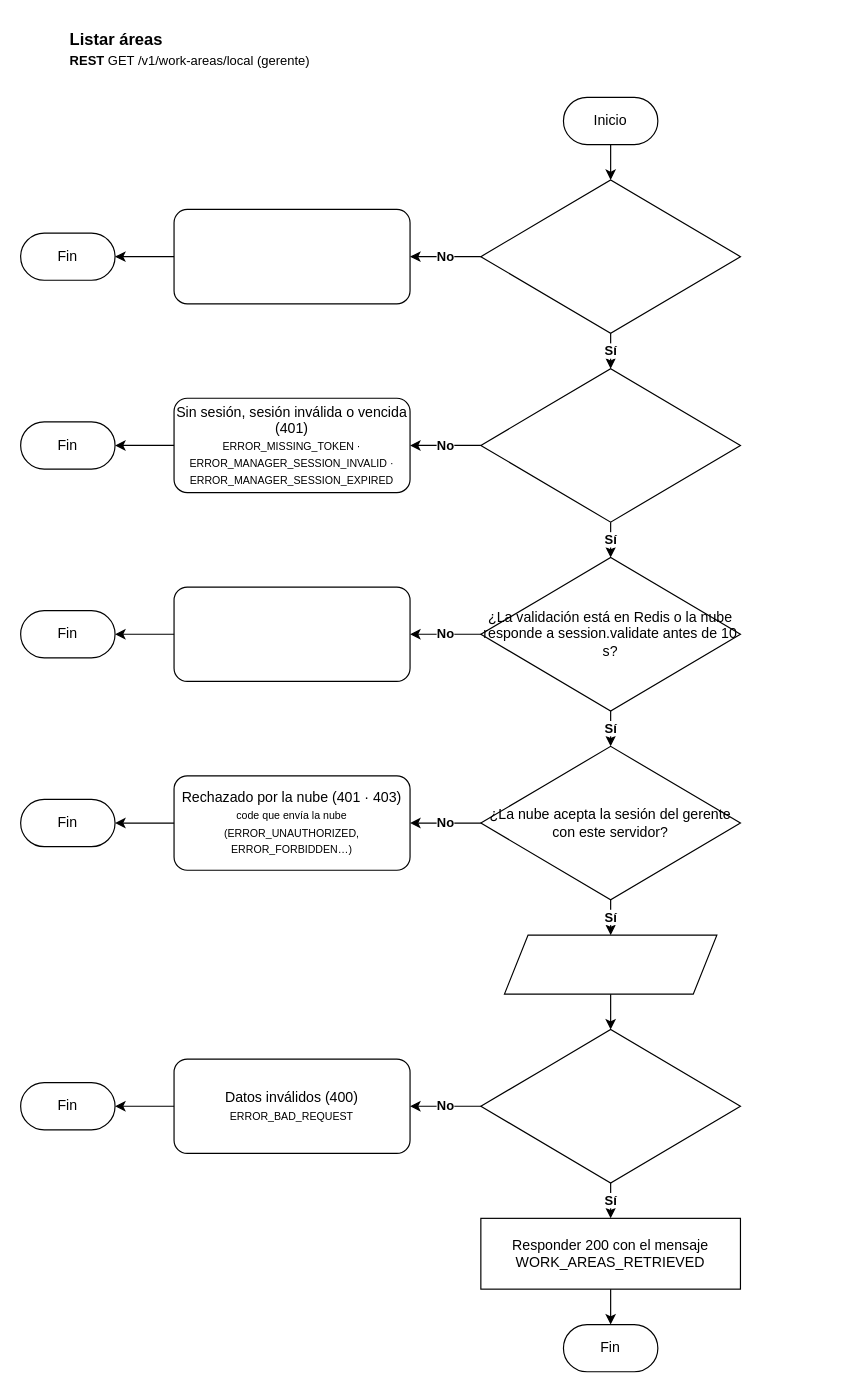
Image size: 844x1392. Some labels were removed from this diagram. The box of each missing label's shape, as (x1, y1, x2, y2) in pixels:
La nube no responde (503) ERROR_CLOUD_UNAVAILABLE · ERROR_SERVER_UNLINKED: (173, 586, 410, 681)
Recibir datos: (503, 934, 717, 994)
Servidor sin emparejar (409) ERROR_SERVER_NOT_PAIRED: (173, 208, 410, 304)
¿El servidor ya se emparejó alguna vez (pairing_status distinto de unpaired)?: (480, 179, 740, 333)
¿Los datos son válidos?: (480, 1028, 740, 1183)
¿Trae una sesión de gerente válida (Bearer mss_..., sin 30 min de inactividad)?: (480, 368, 740, 522)
